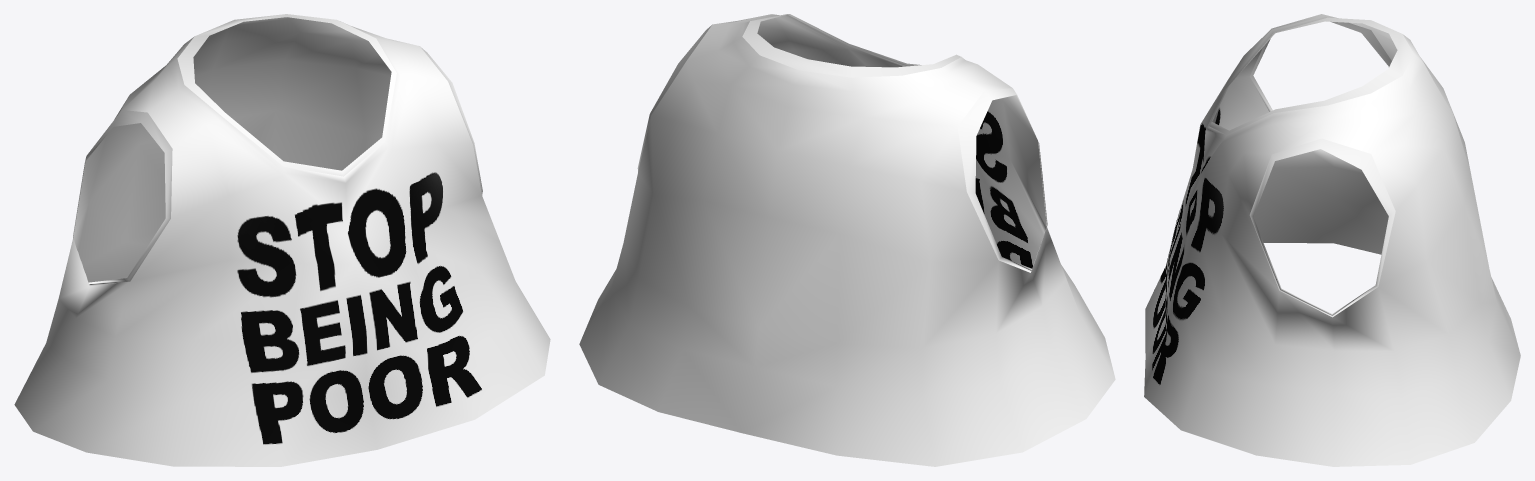
Rendered from Paris_Hilton.glb.
3 renders of one model, left to right at view 1: azimuth 30°, elevation 25°; view 2: azimuth 150°, elevation 25°; view 3: azimuth 270°, elevation 25°, orthographic. The views are drawn at different scales.
Visible parts, largest first — view 1: Paris_Hilton; view 2: Paris_Hilton; view 3: Paris_Hilton.
Part boxes in pixels (x1,y1,x2,y2): Paris_Hilton: [14, 14, 550, 466]; Paris_Hilton: [579, 14, 1115, 466]; Paris_Hilton: [1144, 14, 1520, 466].
Size of the model in its own units: 0.5645 by 0.3715 by 0.4018.
2 materials, 1 textured.
